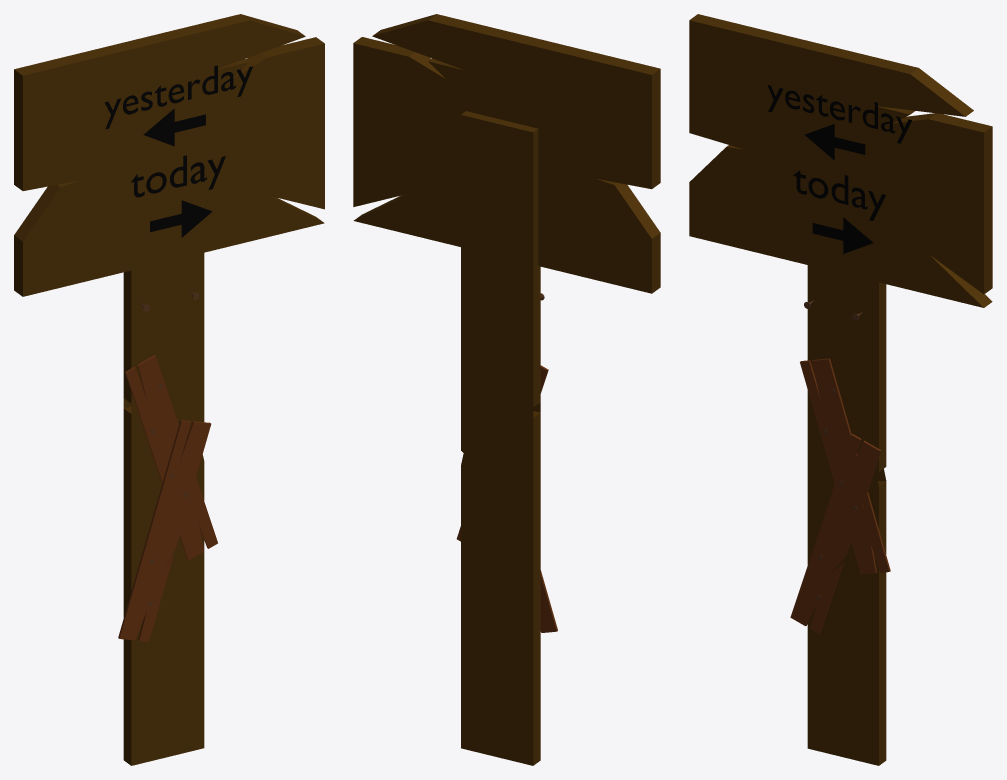
File: sign1.obj
The picture shows the model from 3 angles, left to right: view 1: azimuth 30°, elevation 25°; view 2: azimuth 150°, elevation 25°; view 3: azimuth 330°, elevation 25°; orthographic projection. The views are drawn at different scales.
Visible parts, largest first — view 1: Cube.001_Cube.002, Cube_Cube.001, Plane.002_Plane.003, Plane.001_Plane.003, Text_Yesterday, Text.001_Text, Curve.000_Curve, Curve.001_Curve; view 2: Cube.001_Cube.002, Cube_Cube.001, Plane.002_Plane.003; view 3: Cube.001_Cube.002, Cube_Cube.001, Plane.002_Plane.003, Plane.001_Plane.003, Text_Yesterday, Text.001_Text, Curve.001_Curve, Curve.000_Curve.
Part boxes in pixels (x1,y1,x2,y2): Cube.001_Cube.002: [14, 14, 324, 296]; Cube_Cube.001: [123, 253, 204, 765]; Plane.002_Plane.003: [118, 420, 211, 641]; Plane.001_Plane.003: [125, 355, 217, 560]; Text_Yesterday: [104, 65, 252, 129]; Text.001_Text: [131, 155, 225, 197]; Curve.000_Curve: [143, 108, 205, 146]; Curve.001_Curve: [150, 200, 212, 237]; Cube.001_Cube.002: [353, 14, 660, 293]; Cube_Cube.001: [461, 111, 540, 765]; Plane.002_Plane.003: [540, 570, 557, 632]; Cube.001_Cube.002: [689, 14, 992, 307]; Cube_Cube.001: [807, 265, 886, 765]; Plane.002_Plane.003: [790, 434, 881, 634]; Plane.001_Plane.003: [800, 358, 890, 574]; Text_Yesterday: [767, 85, 911, 143]; Text.001_Text: [793, 170, 885, 220]; Curve.001_Curve: [812, 217, 873, 253]; Curve.000_Curve: [804, 124, 865, 160].
Size of the model in its own units: 2 by 4.57 by 0.1773.
